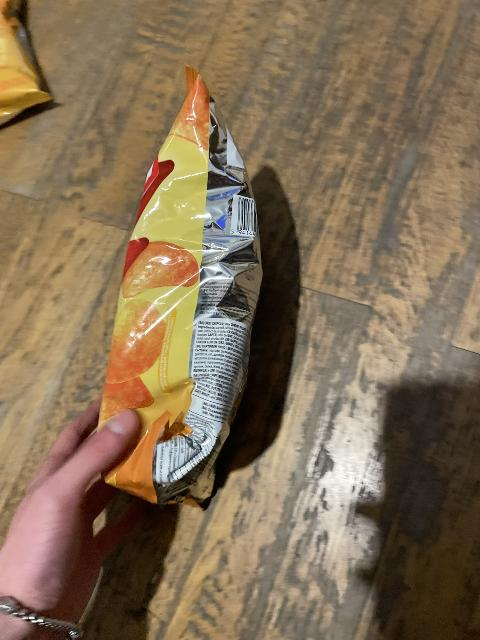Chio Cascaval 125g: (97, 77, 261, 499)
